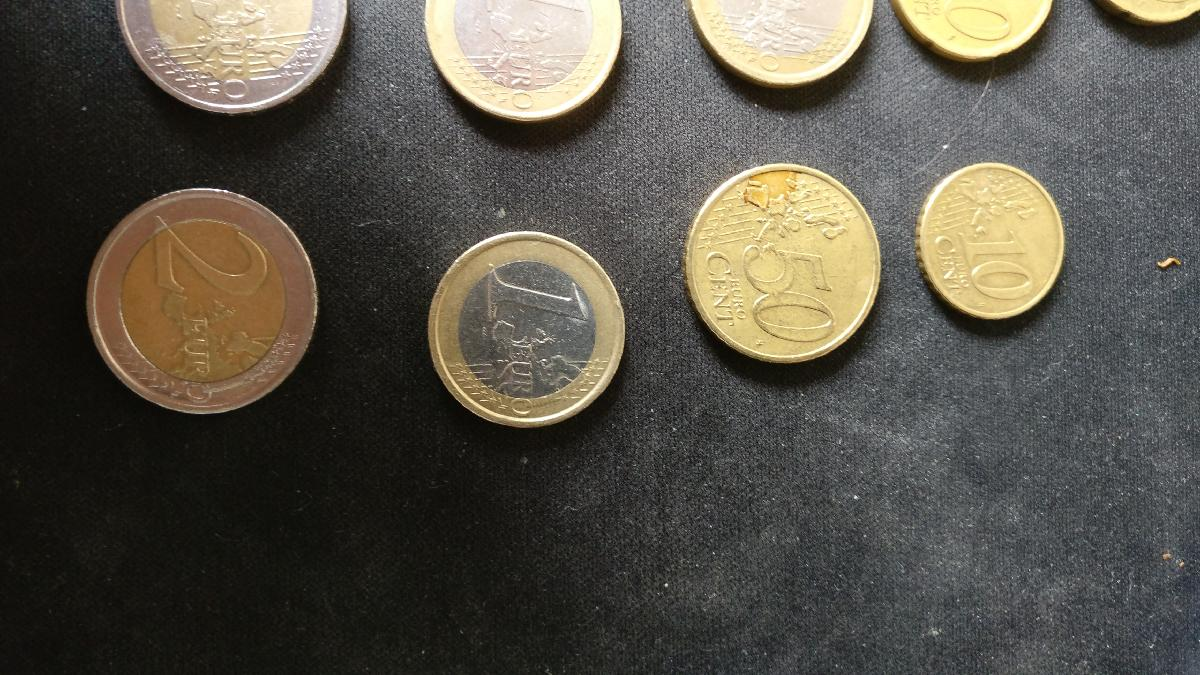Fifty Cent: (683, 168, 878, 368)
One Euro: (424, 232, 625, 428), (417, 1, 641, 129), (689, 1, 881, 92)
Ten Cent: (918, 165, 1062, 320)
Twenty Cent: (893, 1, 1057, 65)
Two Euro: (81, 189, 316, 418), (119, 1, 350, 116)
